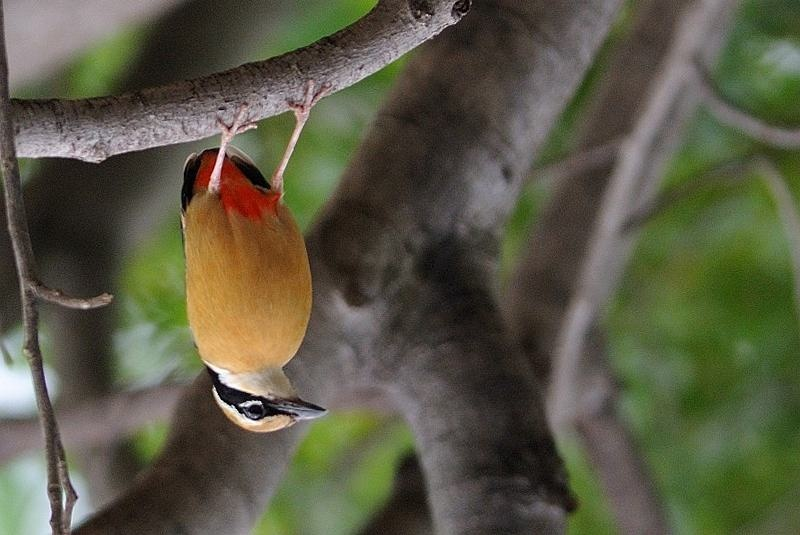pitta: (154, 81, 353, 455)
